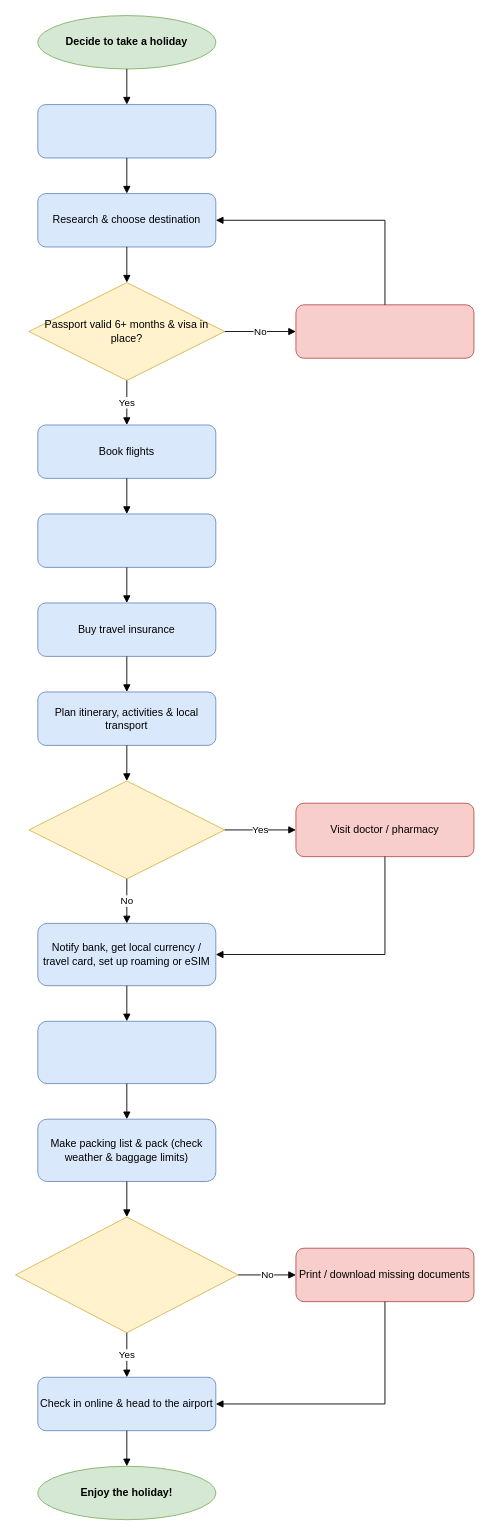
Some shapes in this 490 by 1535 pixel diagram are drawn without their labels. The centre of each missing label's shape, as x and y in pixels:
All documents ready? (passport, tickets, bookings, insurance): (x=126, y=1274)
Arrange home: pet/plant care, hold mail, secure house: (x=126, y=1052)
Book accommodation: (x=126, y=540)
Renew passport / apply for visa: (x=384, y=331)
Set budget & travel dates: (x=126, y=131)
Vaccinations or medication needed?: (x=126, y=829)
